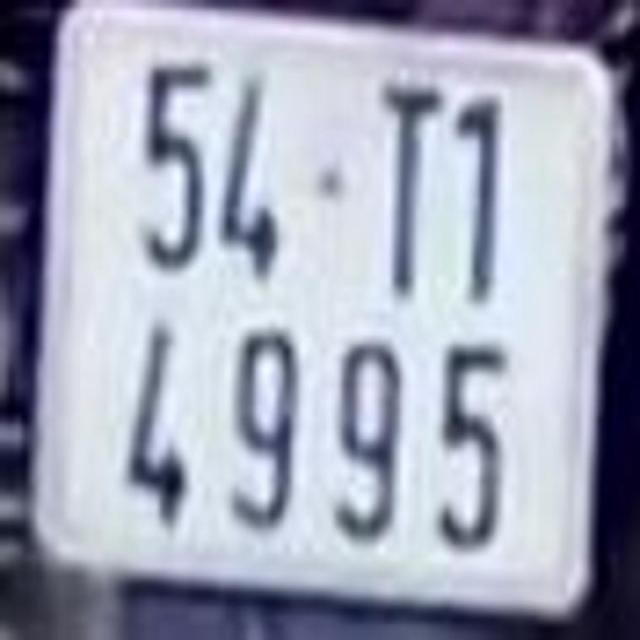1: (455, 93, 507, 300)
4: (121, 321, 186, 528), (218, 74, 281, 285)
5: (140, 62, 210, 270), (440, 336, 506, 555)
9: (232, 327, 296, 532), (336, 344, 394, 535)
T: (381, 74, 447, 296)
